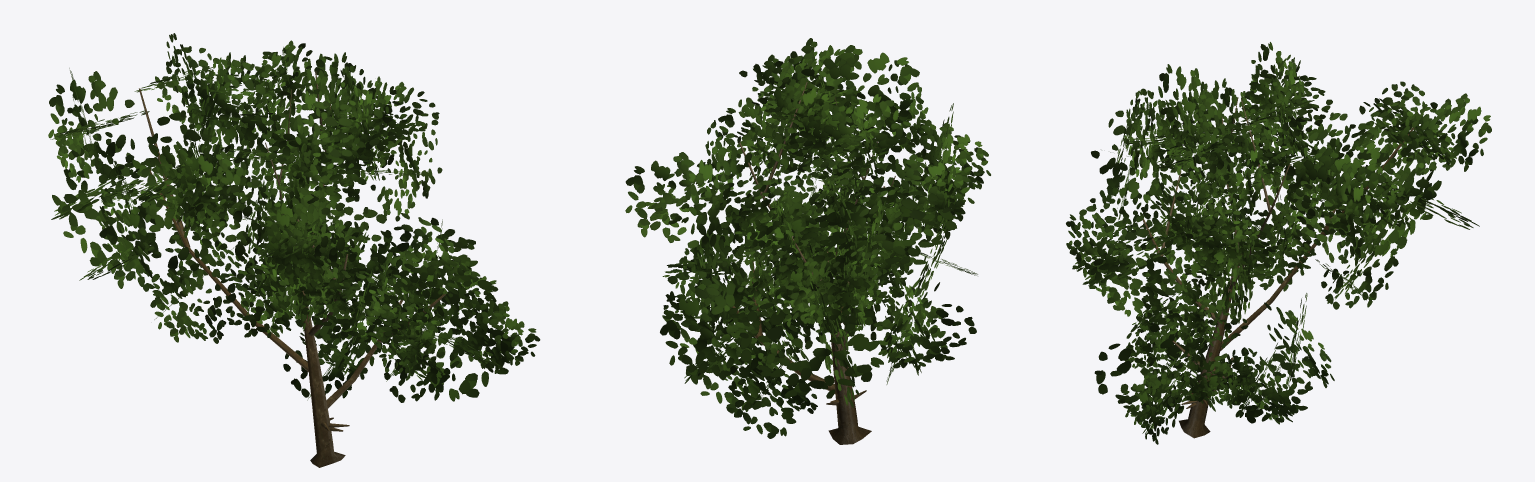
Rendered from env_tree_prairie_old_01.glb.
3 renders of one model, left to right at view 1: azimuth 30°, elevation 25°; view 2: azimuth 150°, elevation 25°; view 3: azimuth 270°, elevation 25°, orthographic. The views are drawn at different scales.
Parts seen in each view (by area): view 1: tree_prairie_old_01; view 2: tree_prairie_old_01; view 3: tree_prairie_old_01.
Part boxes in pixels (x1,y1,x2,y2): tree_prairie_old_01: (48,33,540,467); tree_prairie_old_01: (625,38,990,444); tree_prairie_old_01: (1066,42,1491,444).
Bounding box in the file's own units: 12.3 × 11.97 × 13.31.
Materials: 2 (2 with a texture image).
